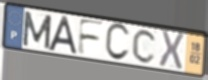A: (46, 15, 79, 56)
C: (104, 22, 132, 63), (131, 28, 158, 65)
F: (76, 17, 106, 57)
M: (21, 10, 53, 52)
X: (158, 29, 186, 72)
